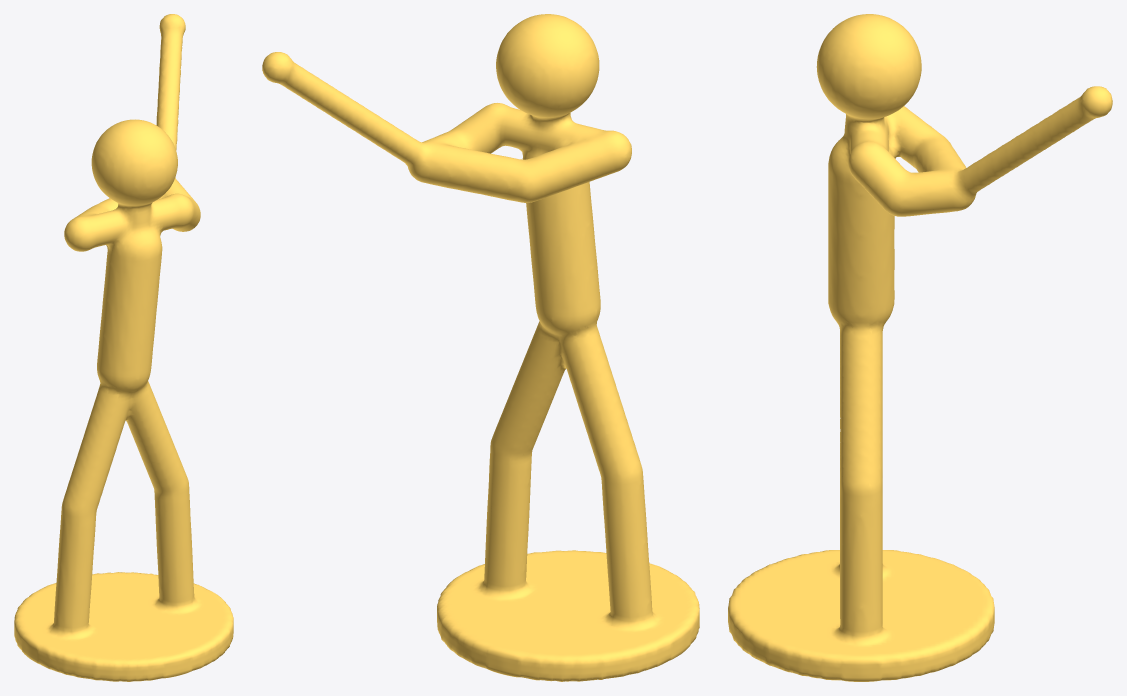
The model's file is baseball.glb.
The picture shows the model from 3 angles, left to right: view 1: azimuth 30°, elevation 25°; view 2: azimuth 150°, elevation 25°; view 3: azimuth 270°, elevation 25°; orthographic projection. The views are drawn at different scales.
Parts seen in each view (by area): view 1: baseball; view 2: baseball; view 3: baseball.
Boxes of the visible parts, bbox=[...] form: baseball: bbox=[14, 14, 233, 681]; baseball: bbox=[262, 14, 699, 681]; baseball: bbox=[728, 14, 1112, 681].
Size of the model in its own units: 0.9 by 1.76 by 0.9801.
